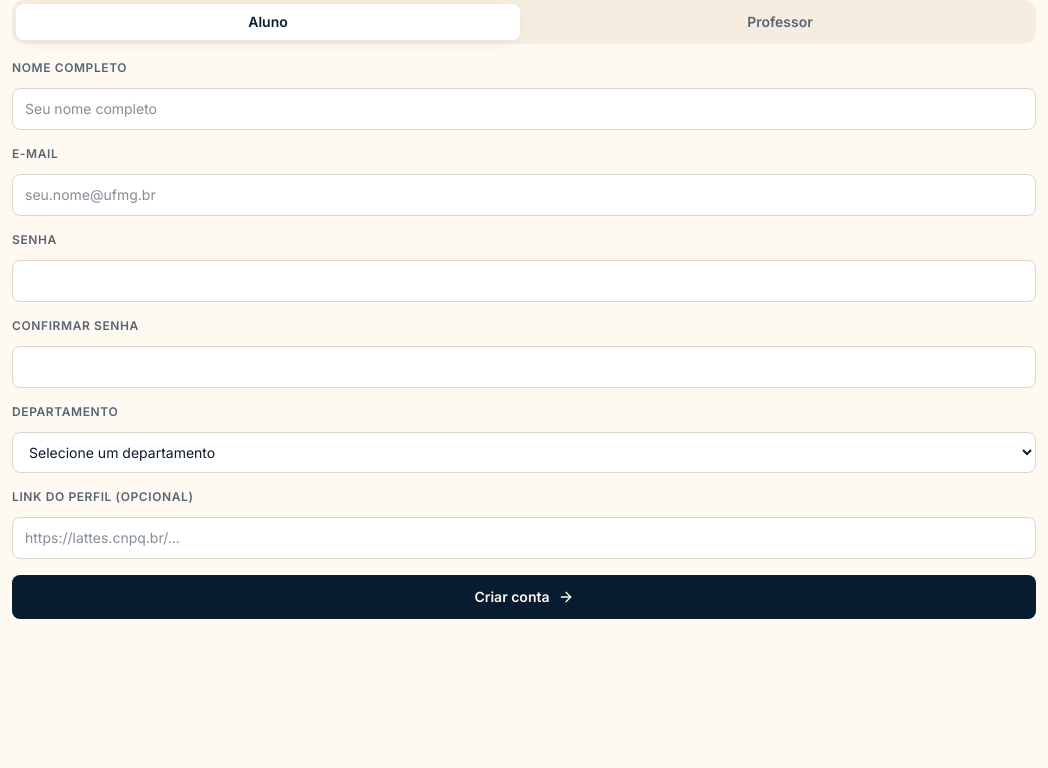
Test: RegisterForm › shows error when passwords do not match
Type "João Silva" into the field labelled "Nome completo".
click(524, 109); type("João Silva")  # box [12,88,1036,130]
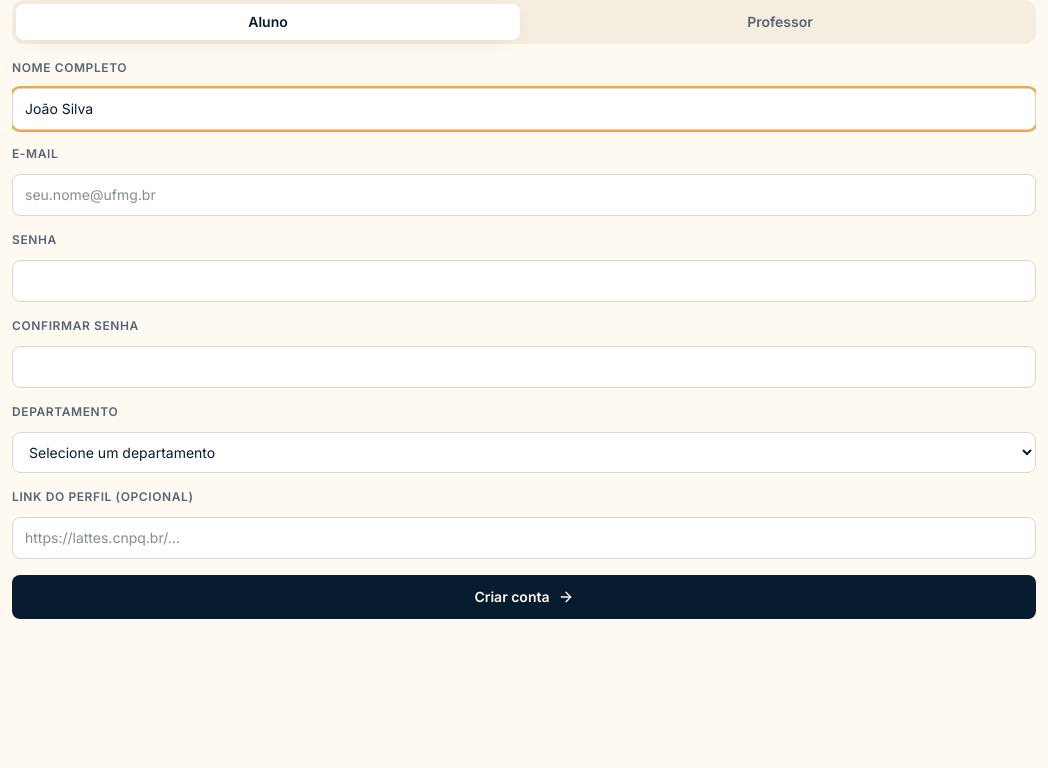
Type "joao@ufmg.br" into the field labelled "E-mail".
click(524, 195); type("joao@ufmg.br")  # box [12,174,1036,216]
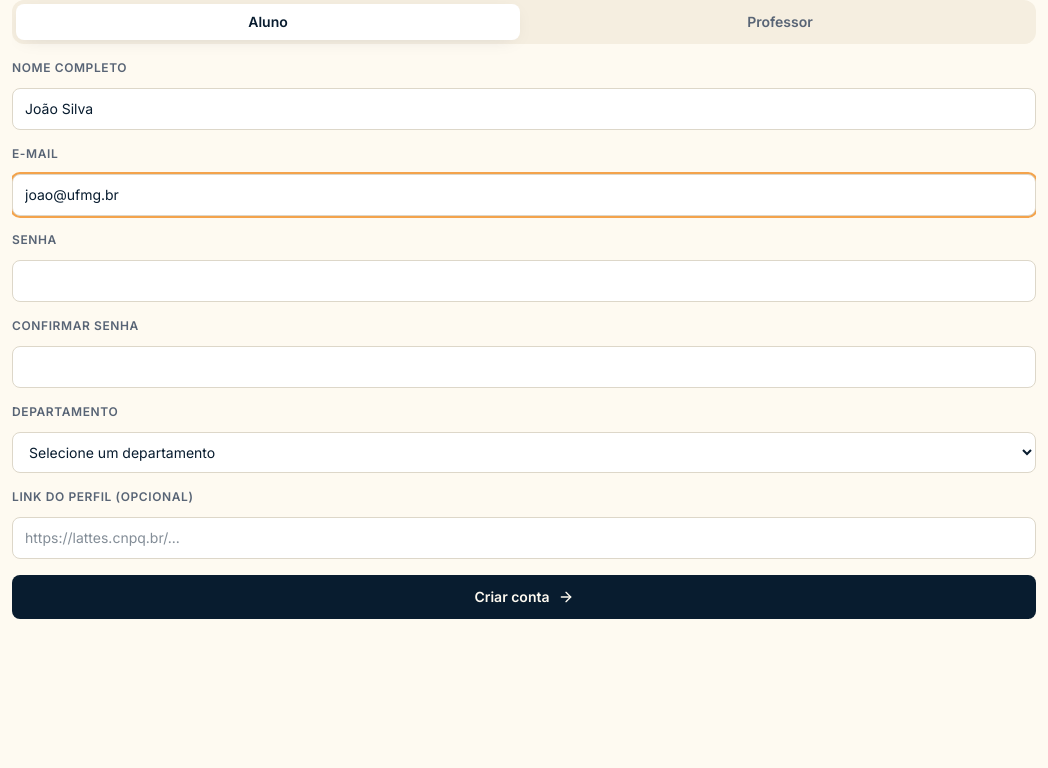
Type "senha123" into the password field labelled "Senha".
click(524, 281); type("senha123")  # box [12,260,1036,302]
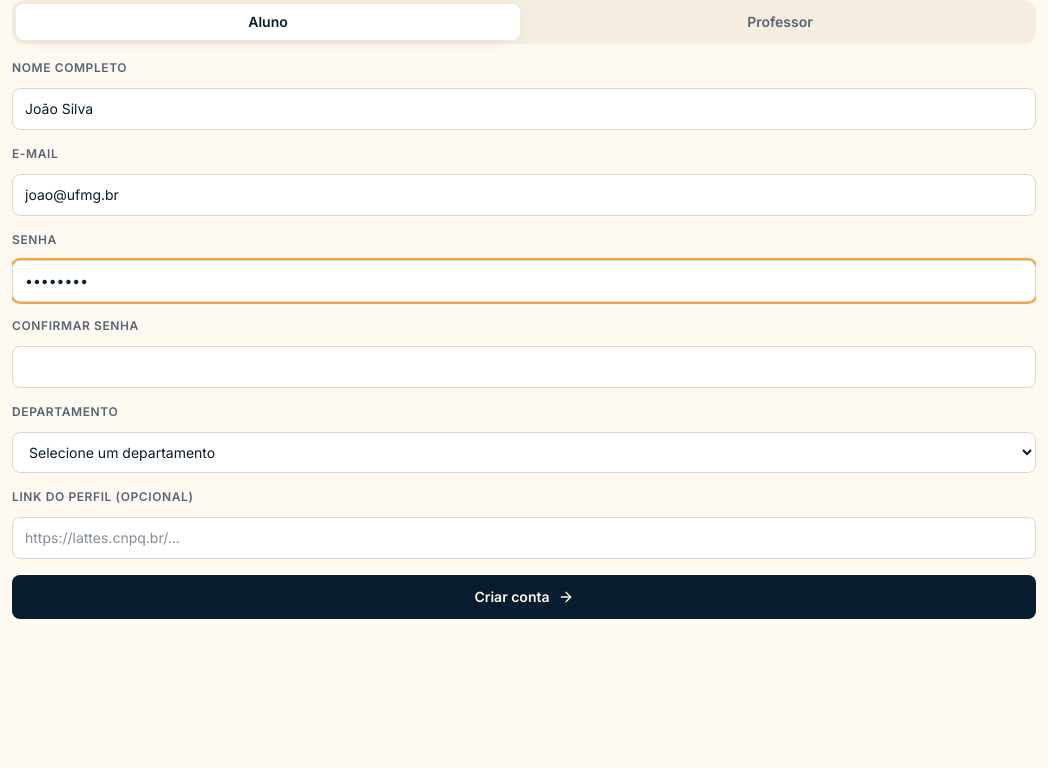
Type "diferente" into the password field labelled "Confirmar senha".
click(524, 367); type("diferente")  # box [12,346,1036,388]
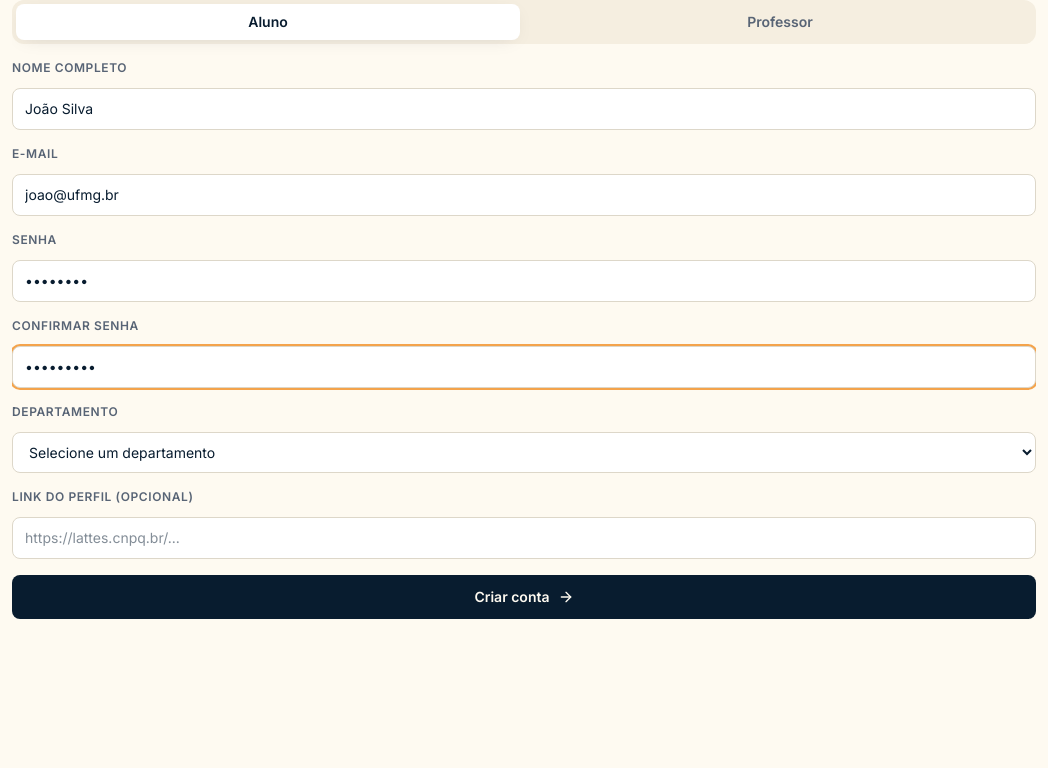
Click the button "Criar conta".
click(524, 597)  # box [12,575,1036,619]
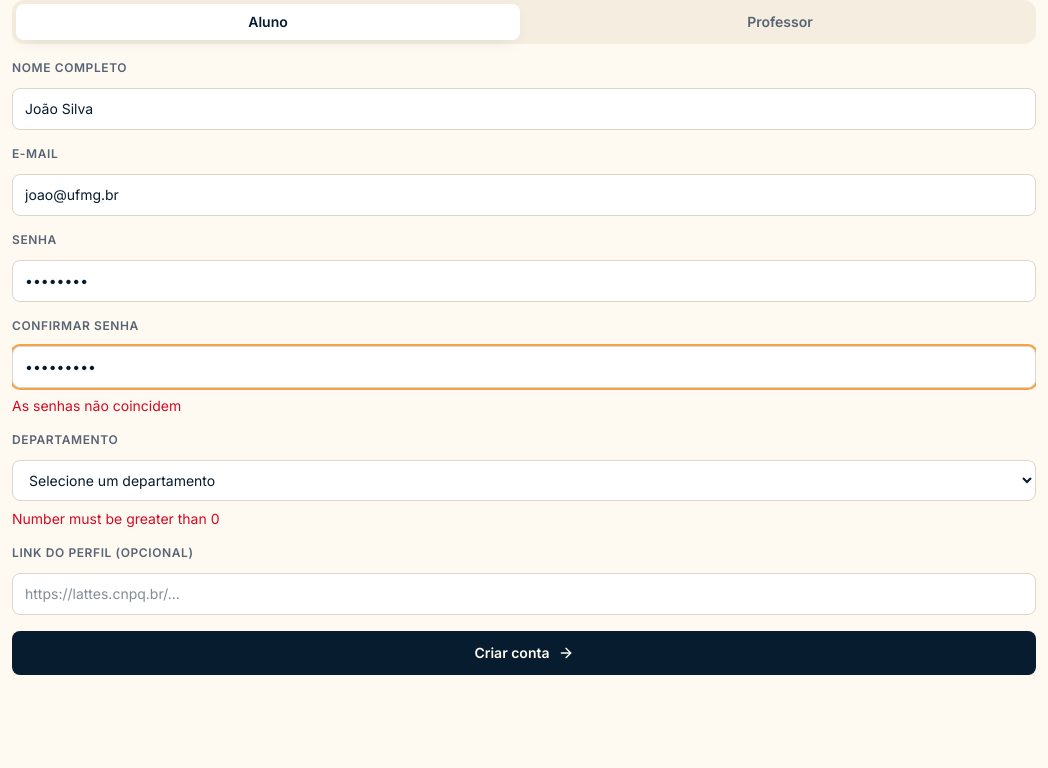
Expected: the text "As senhas não coincidem" is shown, [12,397,181,414]
